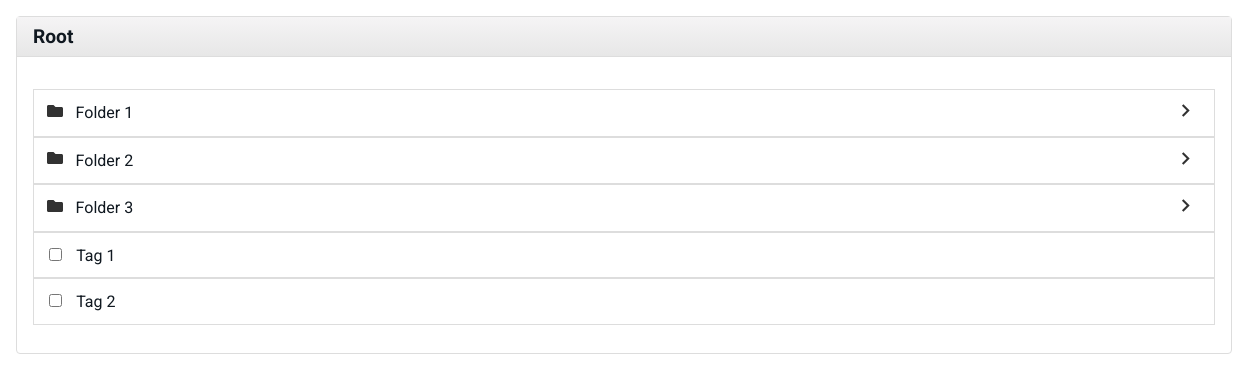
Test: TagPicker Back Button › should have back button when inside a folder
Click the text "Folder 1". click: point(104, 113)
box: [76, 103, 133, 122]
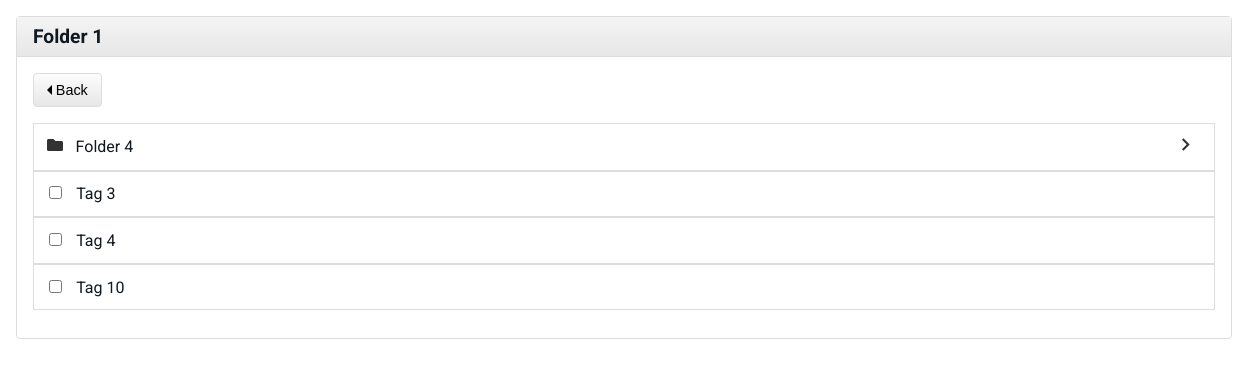
Expected: the button "Back" is shown, [33, 73, 102, 107]
